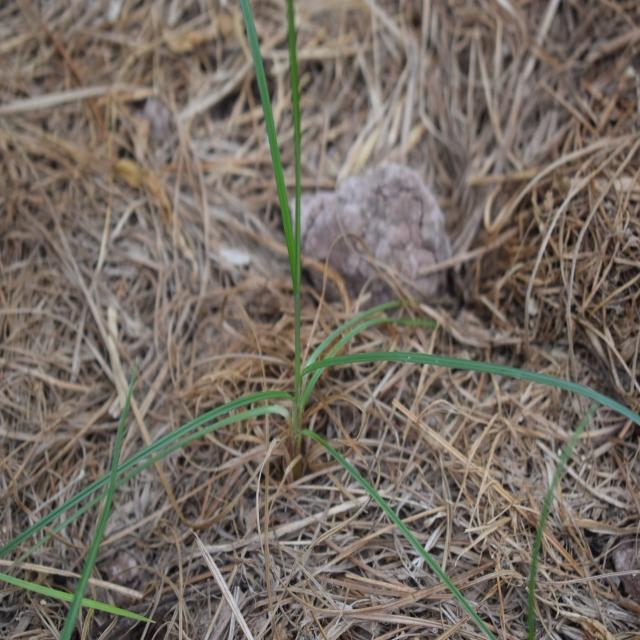sedge: (80, 45, 545, 584)
